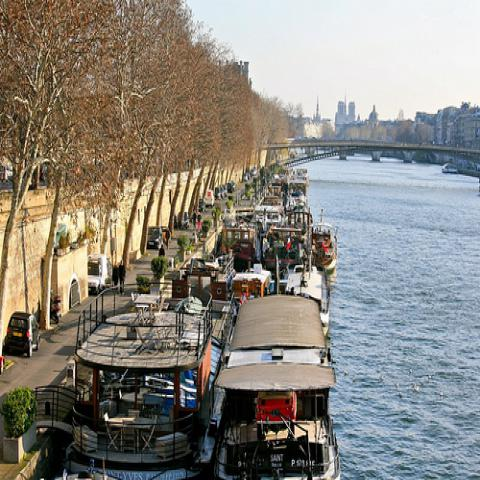car: (4, 312, 42, 358), (147, 226, 163, 251), (198, 197, 206, 213), (184, 212, 190, 230), (215, 186, 224, 198), (221, 184, 228, 197), (227, 182, 233, 194), (243, 172, 251, 181), (230, 181, 236, 191)
truck: (87, 254, 109, 294), (204, 190, 214, 208)
